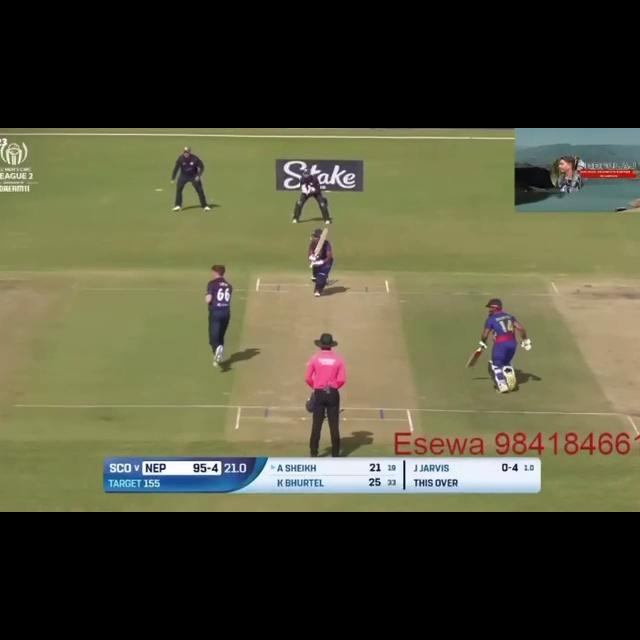umpire: (299, 329, 360, 462)
